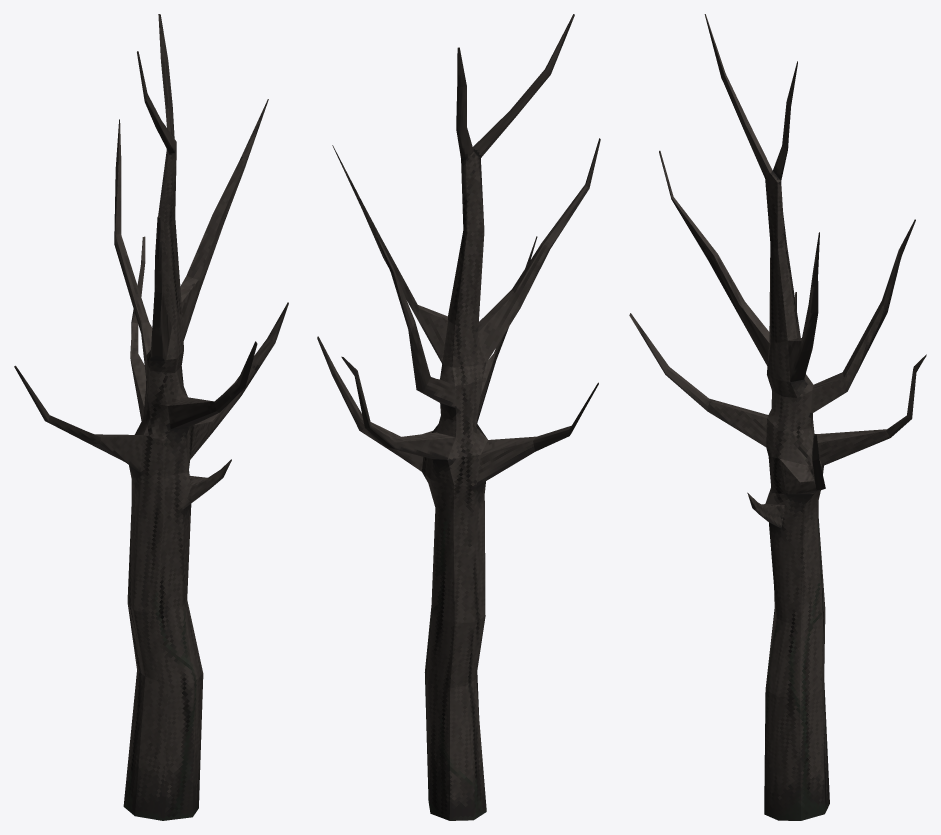
Rendered from tree1.fbx.
3 renders of one model, left to right at view 1: azimuth 30°, elevation 25°; view 2: azimuth 150°, elevation 25°; view 3: azimuth 270°, elevation 25°, orthographic. The views are drawn at different scales.
Parts seen in each view (by area): view 1: tree1; view 2: tree1; view 3: tree1.
Part boxes in pixels (left/top/right/bottom): tree1: left=14, top=14, right=288, bottom=820; tree1: left=317, top=14, right=600, bottom=820; tree1: left=629, top=14, right=926, bottom=820.
Size of the model in its own units: 4.91 by 13.37 by 4.74.
